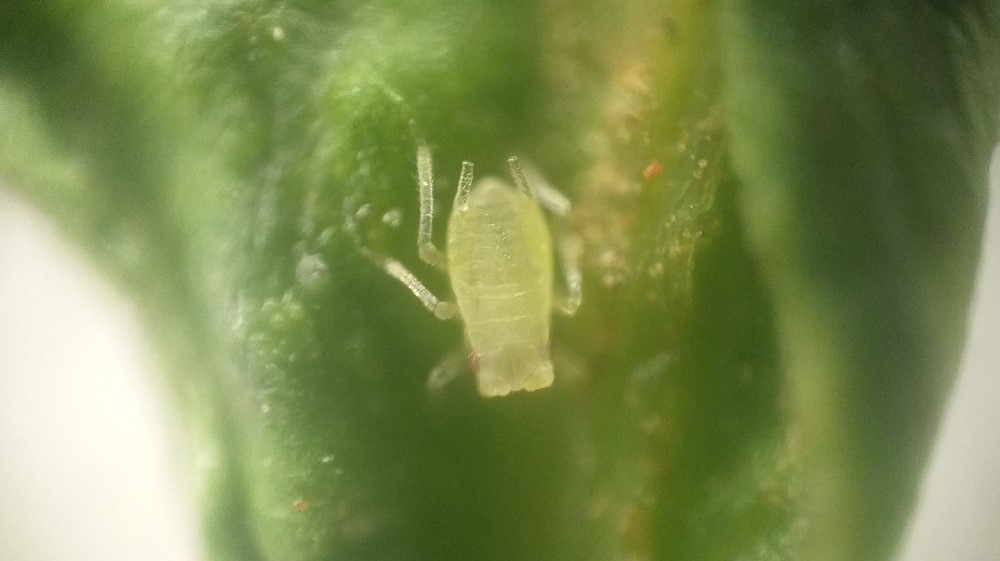Pulgon: (346, 138, 626, 434)
